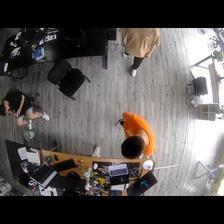normal: (119, 27, 161, 78), (115, 111, 154, 159)
